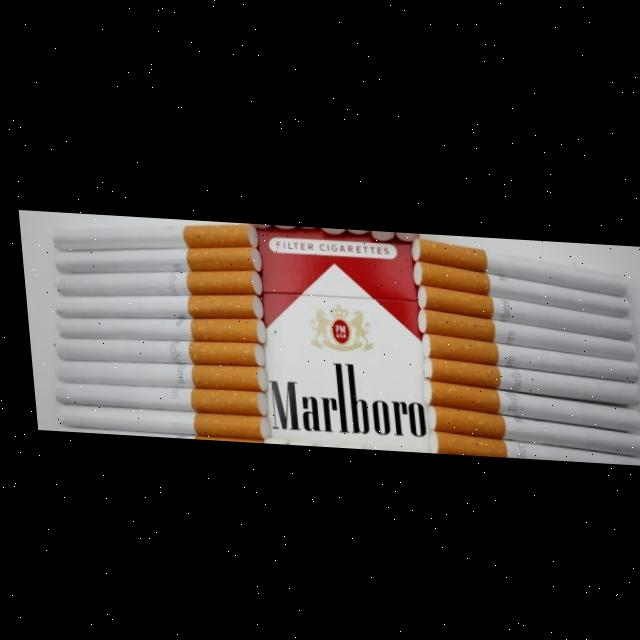cigarette: (407, 233, 622, 289), (408, 257, 626, 310), (412, 280, 628, 332), (416, 375, 636, 425), (412, 304, 630, 354), (420, 401, 640, 450), (416, 328, 634, 374), (417, 353, 633, 398), (50, 405, 264, 438), (420, 427, 640, 459), (48, 382, 261, 414), (49, 360, 261, 389), (50, 221, 255, 250), (49, 245, 257, 273), (50, 268, 258, 296), (50, 292, 258, 317), (51, 338, 259, 363), (52, 316, 260, 341)
